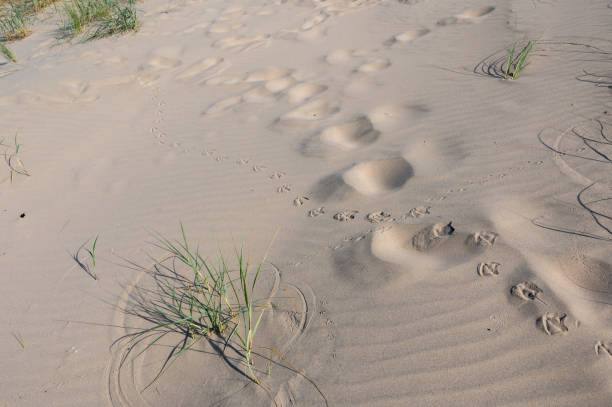animal_foot_print: (342, 157, 412, 194), (319, 116, 379, 150), (280, 99, 339, 120), (412, 222, 454, 250), (436, 6, 494, 25), (177, 57, 223, 79), (212, 34, 269, 51), (286, 83, 327, 103), (203, 95, 242, 115), (384, 28, 429, 45), (245, 66, 292, 82), (538, 312, 568, 336), (510, 281, 542, 300), (300, 11, 329, 30), (264, 76, 297, 92), (466, 231, 497, 247), (357, 58, 390, 72), (366, 210, 391, 223), (477, 262, 500, 276), (333, 209, 358, 221), (405, 206, 430, 217), (595, 341, 611, 358), (307, 206, 325, 216), (293, 196, 309, 206), (251, 165, 267, 173), (268, 171, 285, 178), (276, 184, 290, 192)
